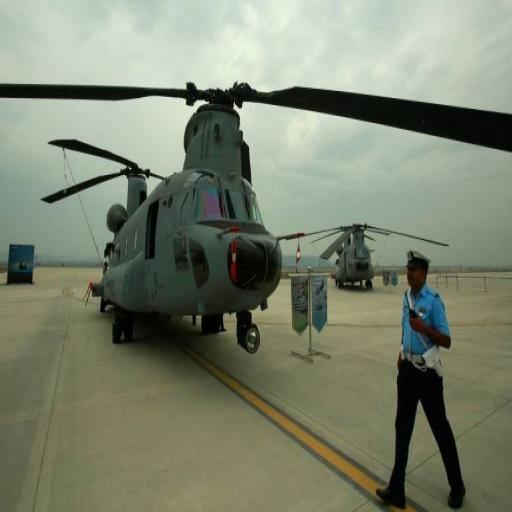helicopter: (57, 21, 340, 379)
